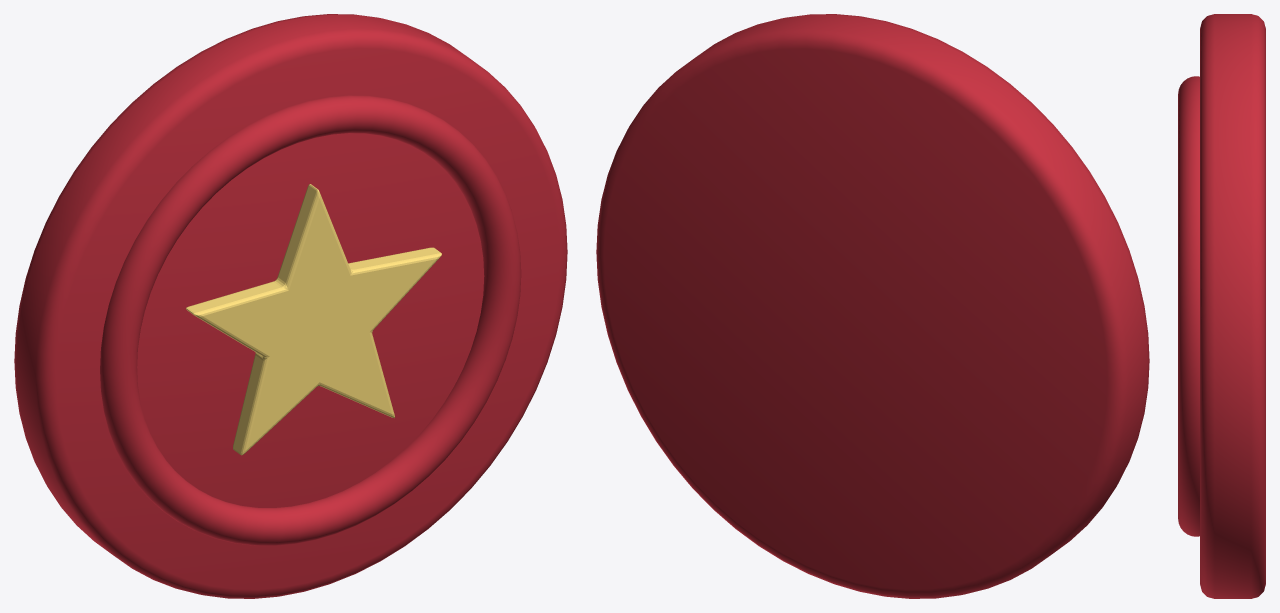
The model's file is royal-seal.glb.
3 renders of one model, left to right at view 1: azimuth 30°, elevation 25°; view 2: azimuth 150°, elevation 25°; view 3: azimuth 270°, elevation 25°, orthographic. The views are drawn at different scales.
Visible parts, largest first — view 1: Cylinder, Torus, poly; view 2: Cylinder; view 3: Cylinder, Torus.
Part boxes in pixels (x1,y1,x2,y2): Cylinder: [14, 14, 567, 598]; Torus: [100, 95, 521, 545]; poly: [186, 184, 441, 455]; Cylinder: [596, 14, 1149, 598]; Cylinder: [1200, 14, 1265, 598]; Torus: [1178, 76, 1199, 536].
Bounding box in the file's own units: 1.48 × 1.48 × 0.2215.
